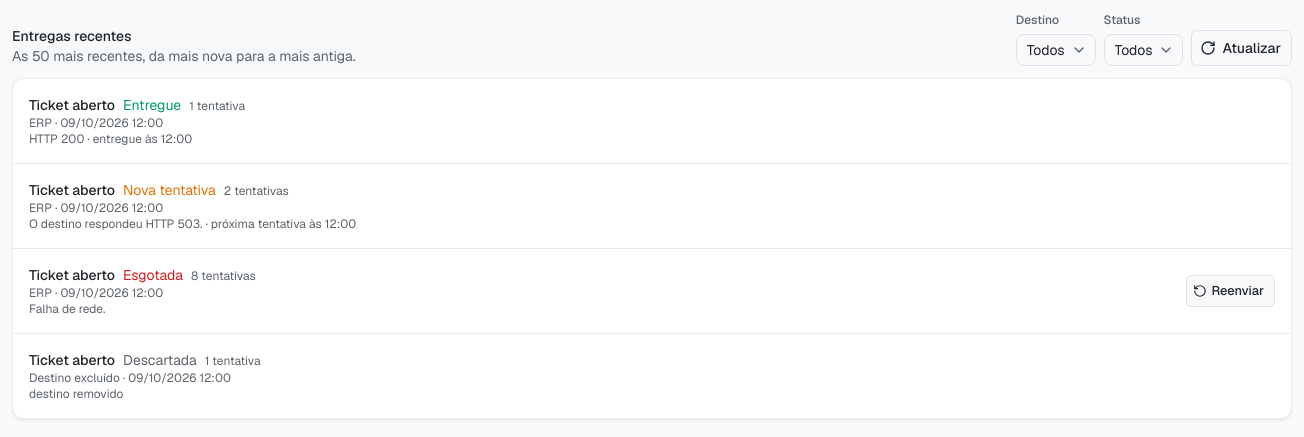
Test: WebhookDeliveries › filtrar relê com o filtro; vazio com filtro diz isso
Click the dropdown named "Filtrar entregas por status" at x=1144, y=50, box left=1104, top=34, right=1183, bottom=66
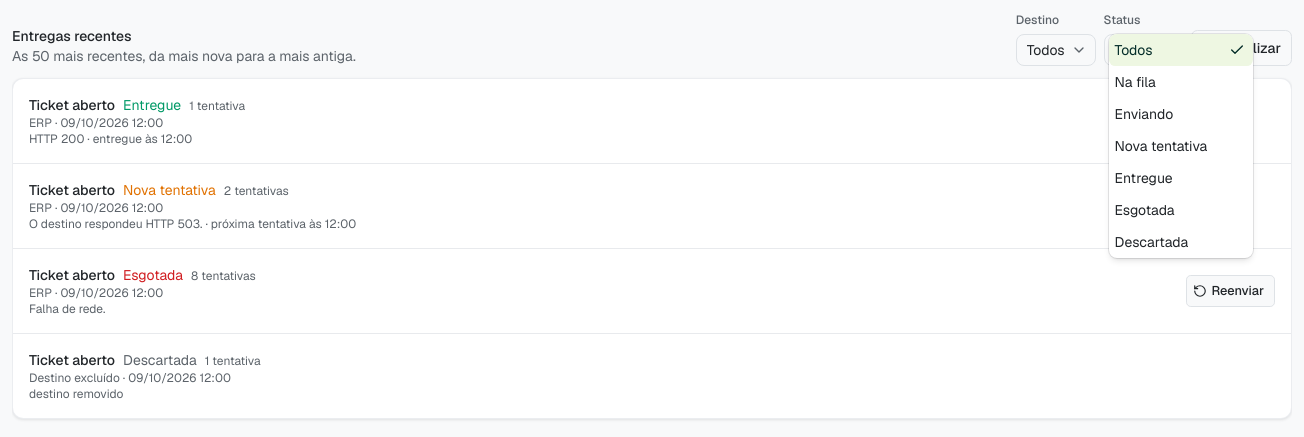
Click the option "Esgotada" at x=1145, y=210, box left=1115, top=201, right=1175, bottom=219
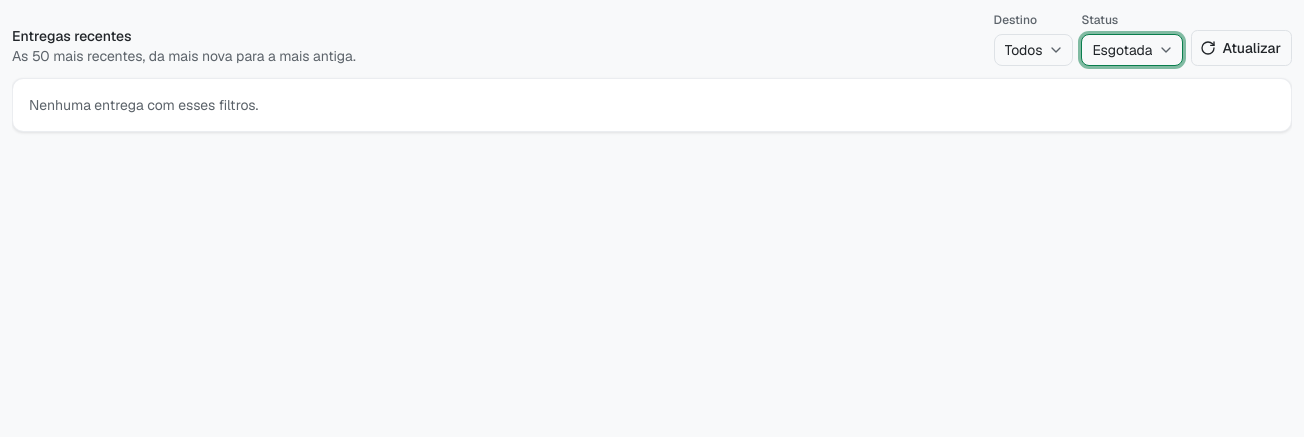
Expected: the text "Nenhuma entrega com esses filtros." is shown, left=12, top=78, right=1292, bottom=132
